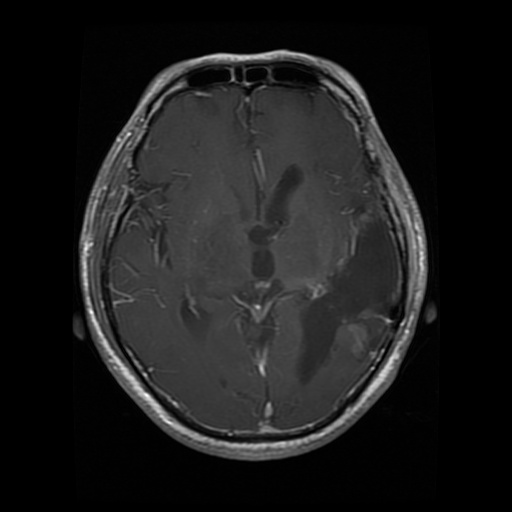glioma: (296, 220, 398, 381)
